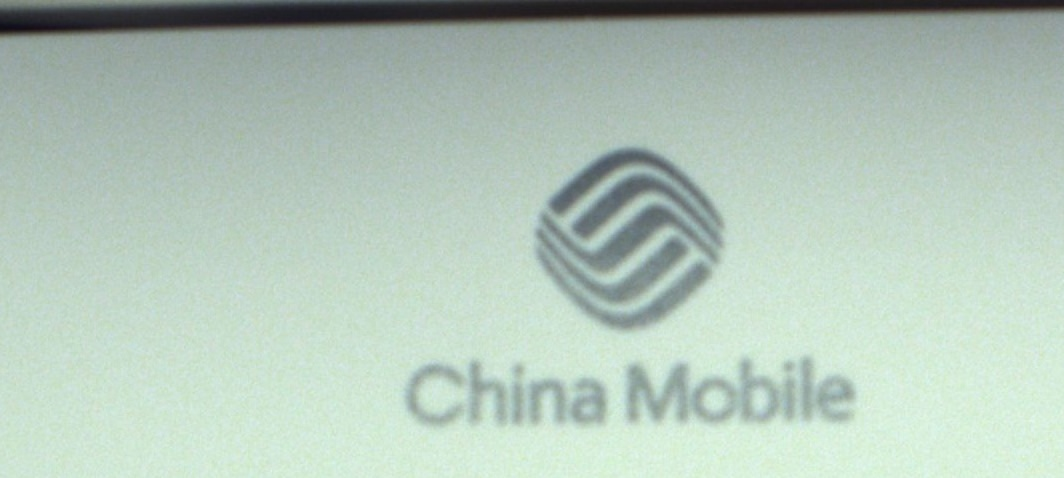AA_ChinaMobile: (388, 149, 857, 436)
